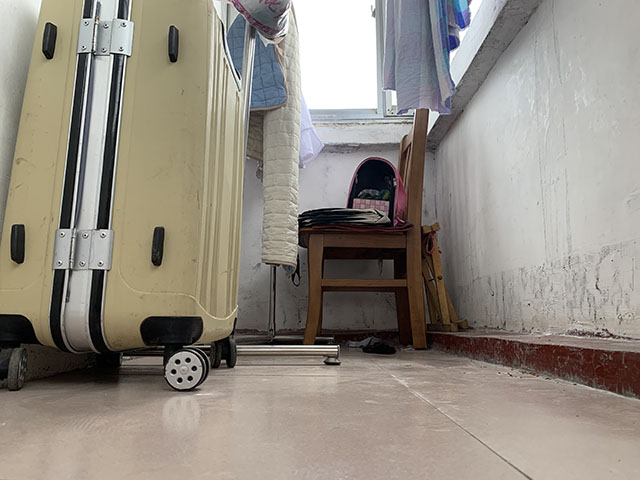socks: (347, 336, 398, 355)
stool: (299, 107, 430, 352), (421, 221, 471, 334)
